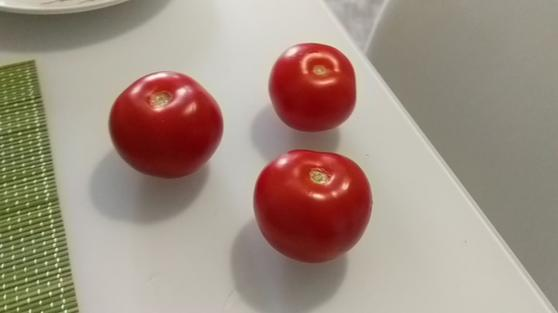tomato: (250, 149, 375, 267), (111, 68, 224, 182), (262, 41, 362, 134)
